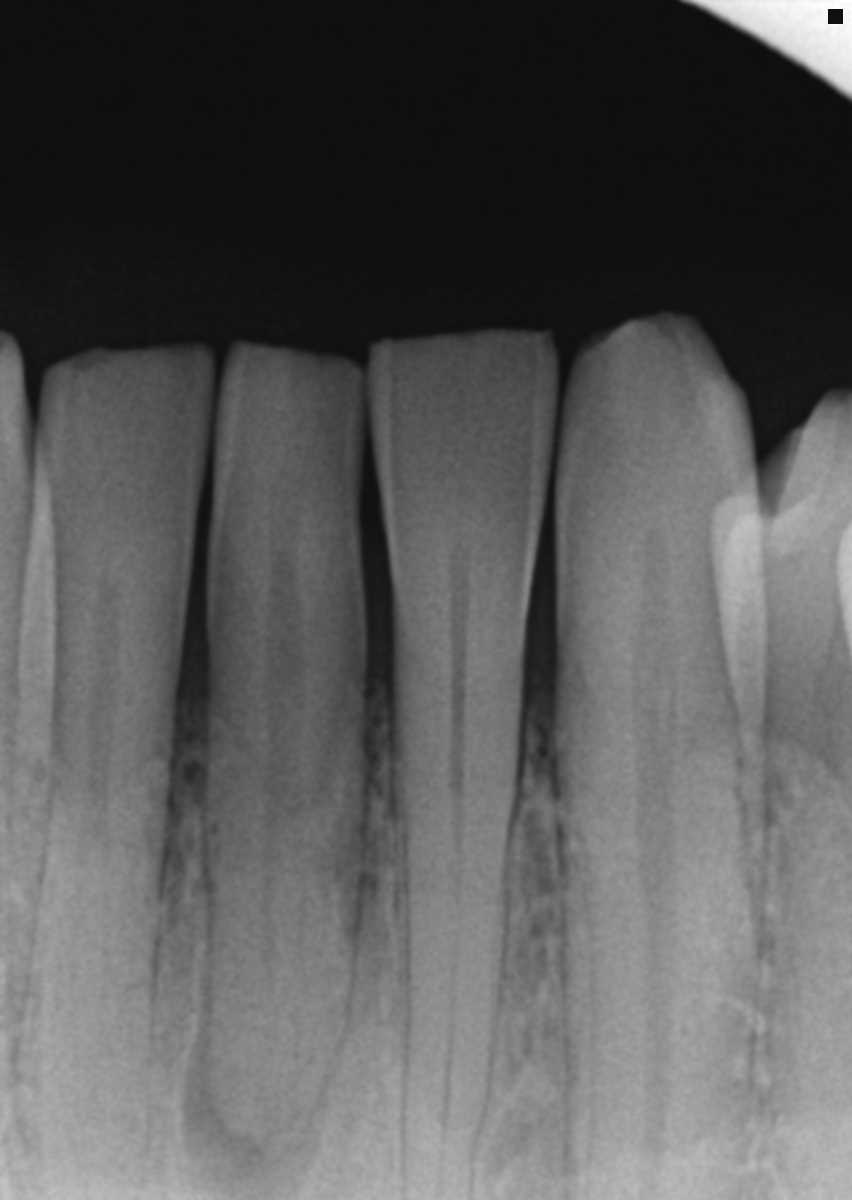Apical Lesion: (185, 1052, 329, 1200)
Main Canal: (631, 660, 679, 1200), (438, 659, 479, 1189), (264, 659, 305, 1081), (72, 657, 118, 991)
Main Root: (550, 652, 766, 1200), (2, 648, 178, 1199), (204, 647, 375, 1147), (392, 656, 528, 1200)
